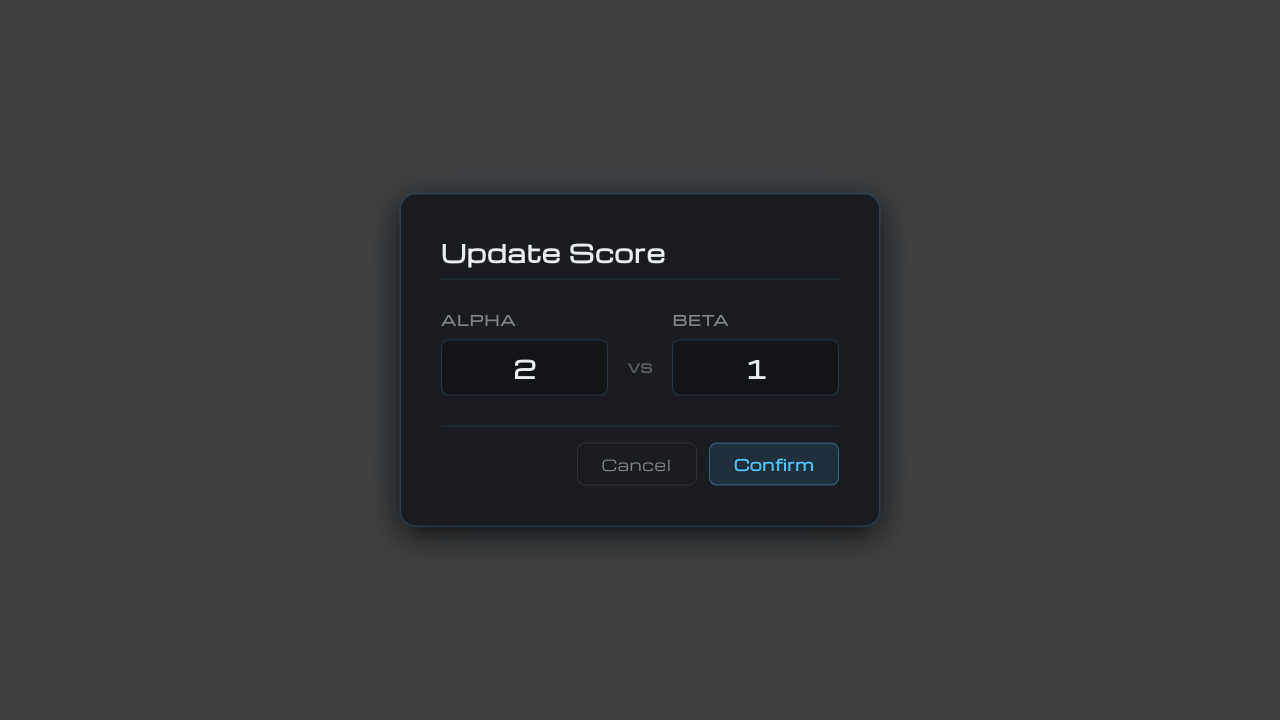
Test: ChangeScore › clamps score input to 0 when a negative value is entered
This screenshot has width=1280, height=720.
Replace the text in the number field below "Alpha" with "-5": [524, 368] box [441,340,608,396]
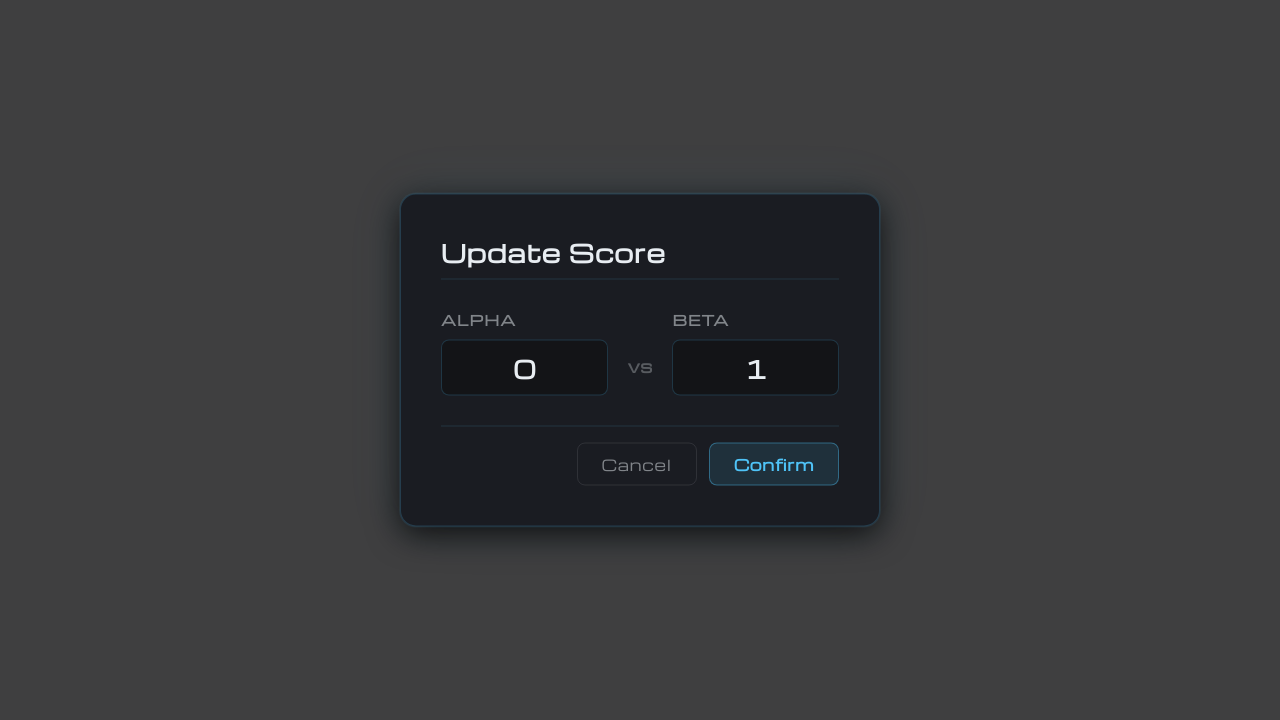
Now the number field below "Alpha" holds "0", box [441,340,608,396]
